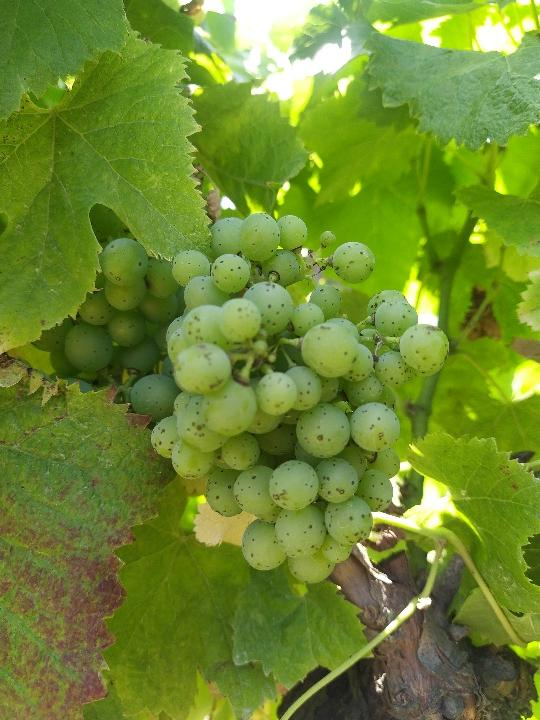grape: (146, 210, 448, 587)
